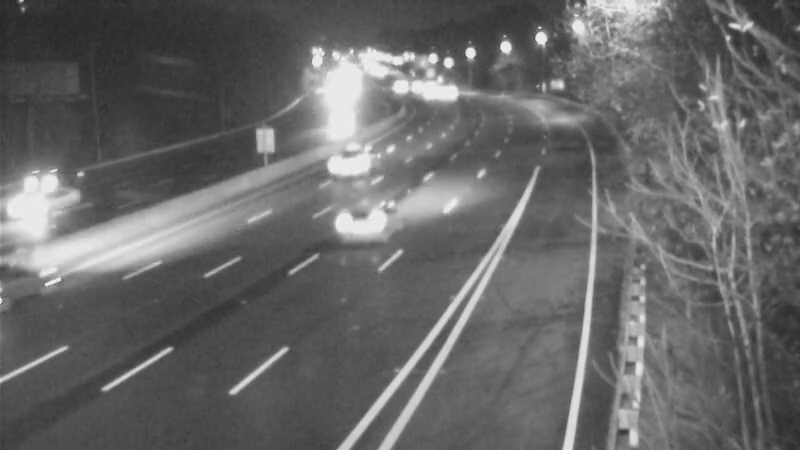vehicle: (315, 122, 395, 202), (326, 187, 406, 267), (1, 140, 79, 220), (1, 176, 75, 256), (1, 230, 68, 310), (308, 98, 358, 148)
